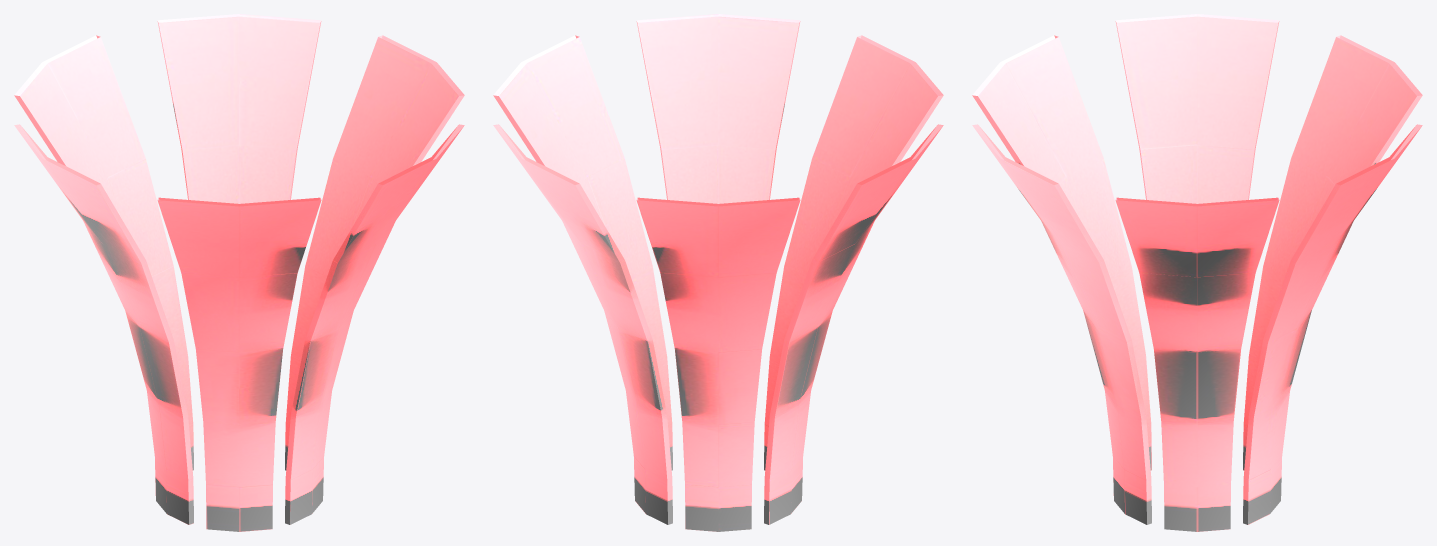
3 renders of one model, left to right at view 1: azimuth 30°, elevation 25°; view 2: azimuth 150°, elevation 25°; view 3: azimuth 270°, elevation 25°, orthographic.
Visible parts, largest first — view 1: 红色立柱; view 2: 红色立柱; view 3: 红色立柱.
Boxes of the visible parts, bbox=[...] form: 红色立柱: bbox=[14, 14, 464, 531]; 红色立柱: bbox=[493, 14, 943, 531]; 红色立柱: bbox=[972, 14, 1422, 531].
Size of the model in its own units: 4.17 by 3.9 by 4.12.
